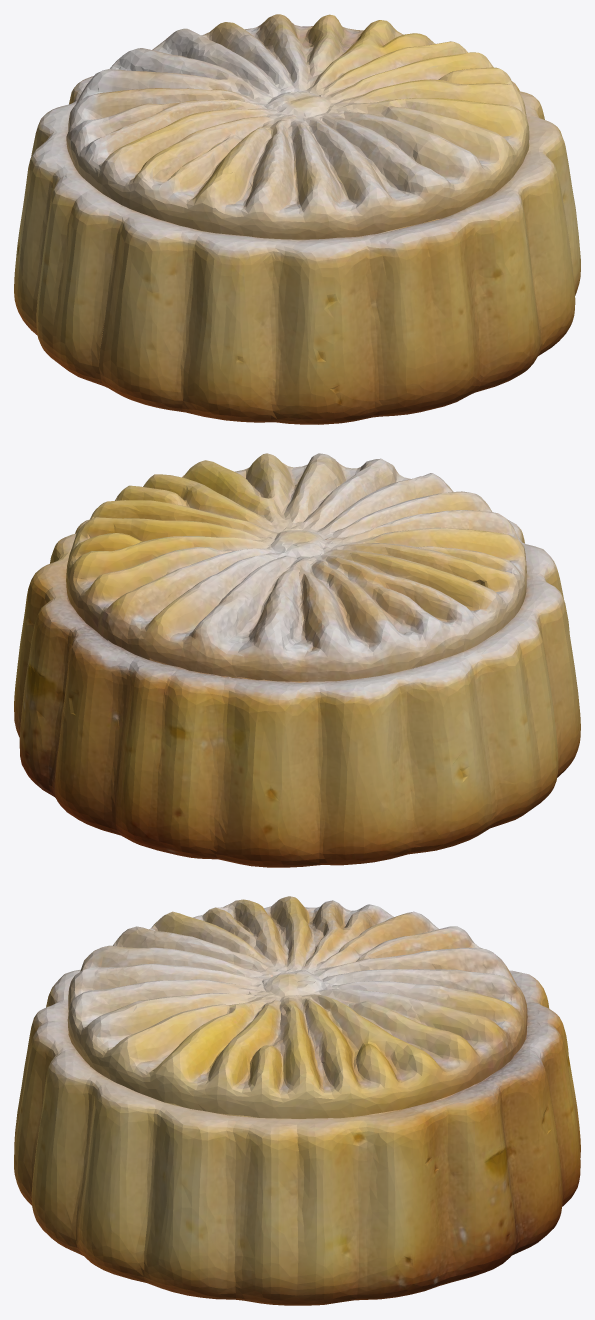
File: maamoul.glb
The picture shows the model from 3 angles, top to bottom: view 1: azimuth 30°, elevation 25°; view 2: azimuth 150°, elevation 25°; view 3: azimuth 270°, elevation 25°; orthographic projection.
Parts seen in each view (by area): view 1: geometry_0; view 2: geometry_0; view 3: geometry_0.
Part boxes in pixels (x1,y1,x2,y2): geometry_0: (14,14,580,424); geometry_0: (14,453,580,867); geometry_0: (14,896,580,1305).
Size of the model in its own units: 0.9953 by 0.4487 by 0.9953.
Materials: 1 (1 with a texture image).
